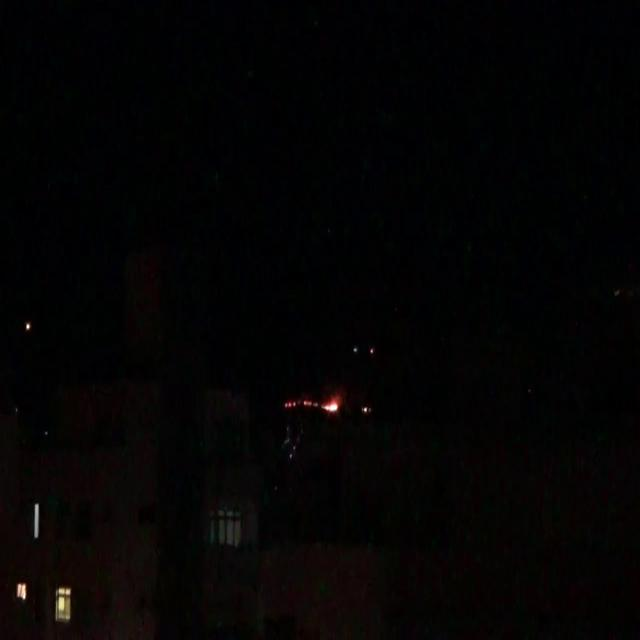Fire: (321, 398, 338, 414), (282, 396, 296, 408), (304, 397, 318, 408)
